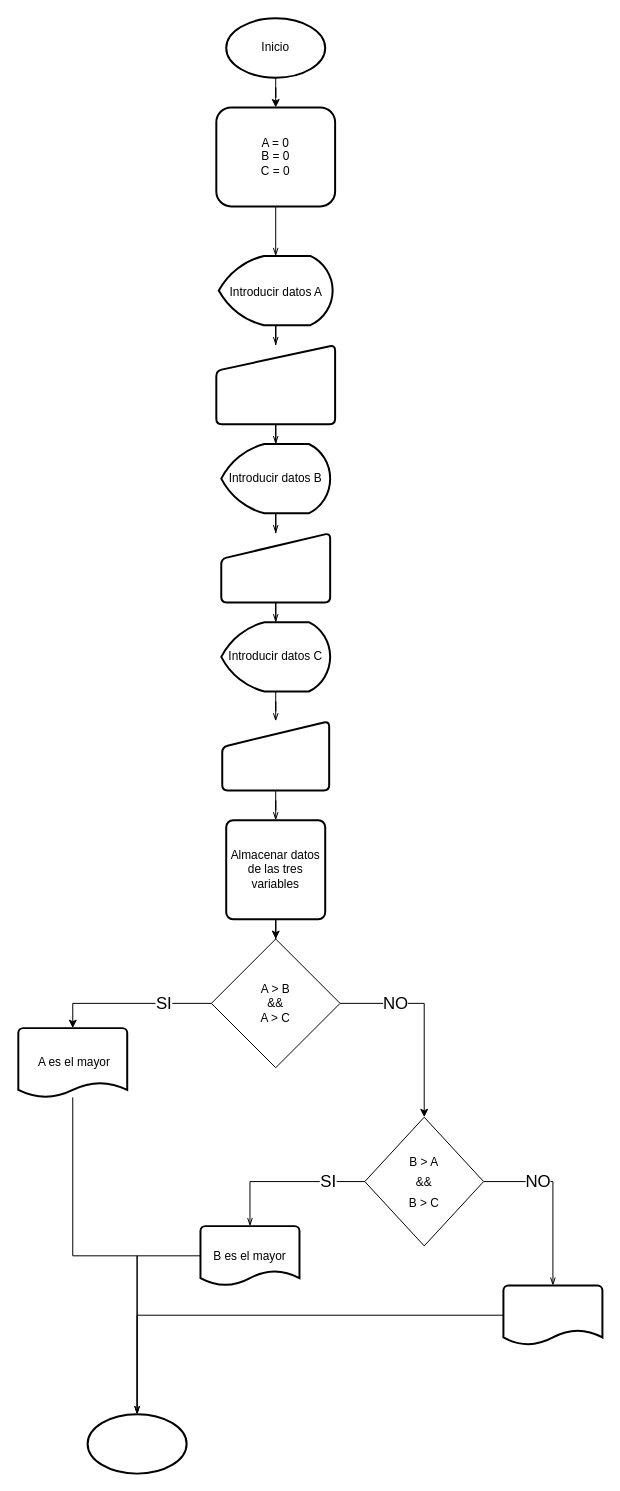
Image size: 620x1491. Some labels were removed from this diagram. Here are the shapes that lost their labels. From the top down, the box of each, then its label:
(215, 344, 336, 425): Leer variable A
(220, 532, 331, 603): Leer variable B
(221, 720, 330, 791): Leer variable C
(502, 1284, 603, 1345): C es el mayor
(86, 1413, 187, 1474): Fin
